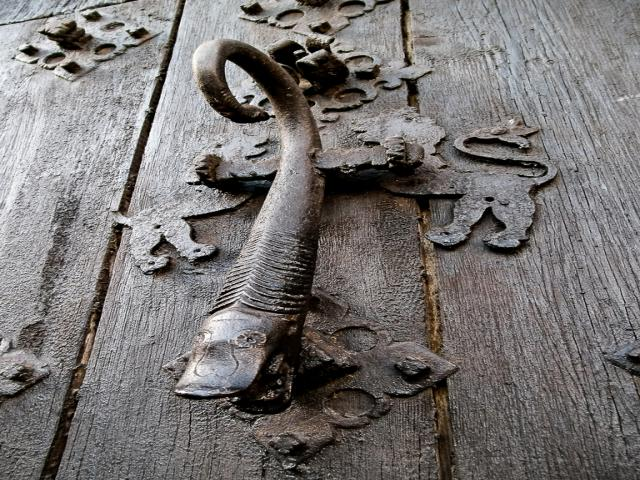Door-handle: (88, 30, 563, 480)
